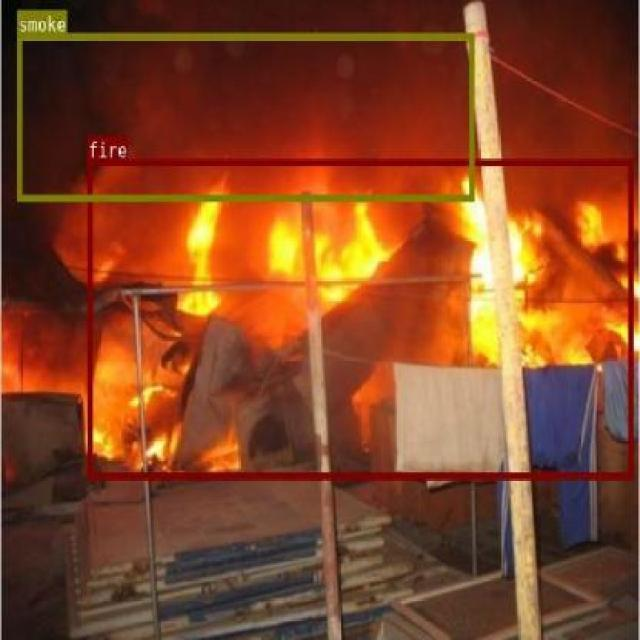Fire: (87, 158, 633, 477)
Smoke: (16, 32, 473, 200)
